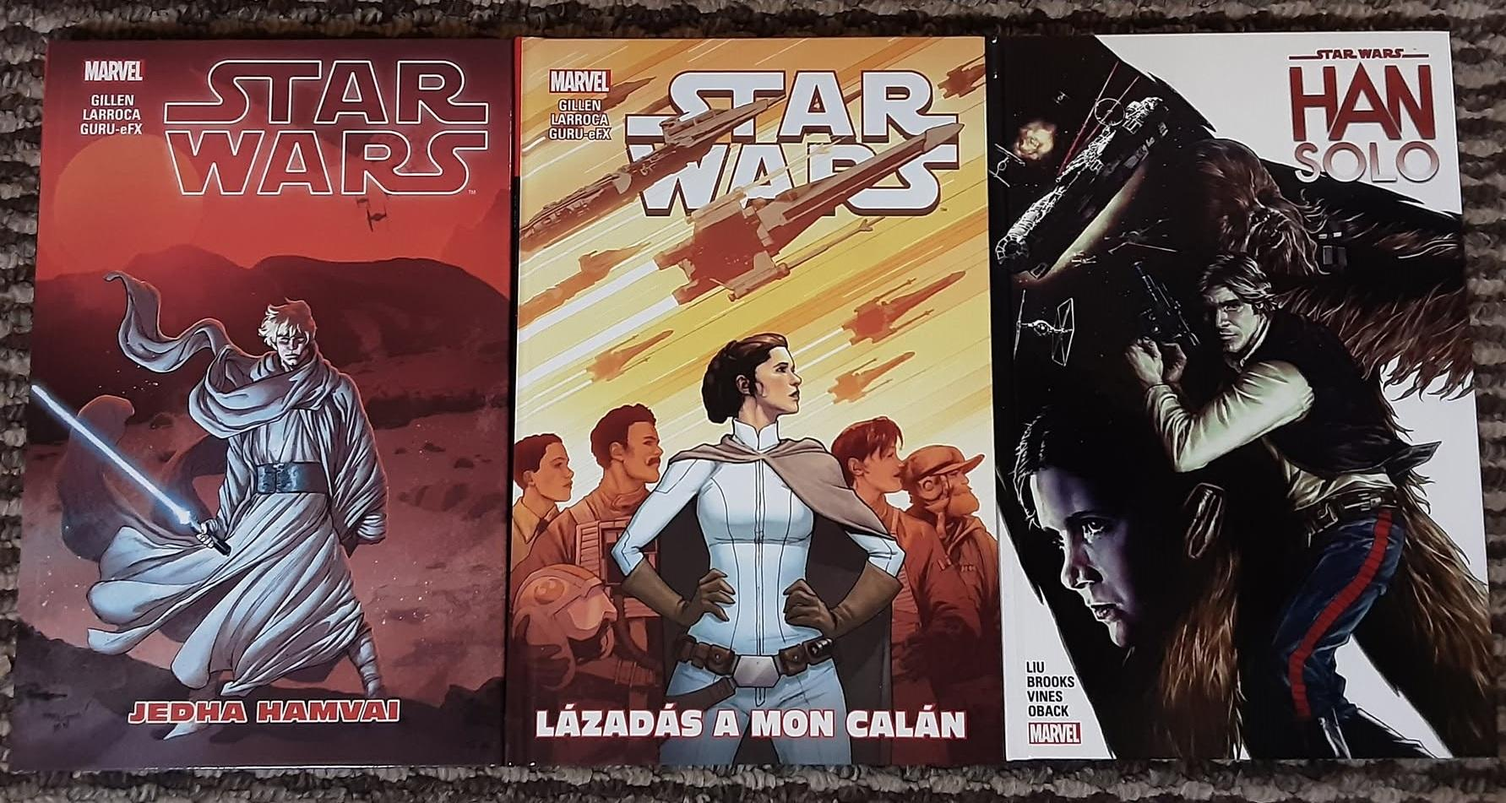comic: (985, 25, 1496, 769), (10, 35, 515, 775), (506, 38, 1002, 765)
